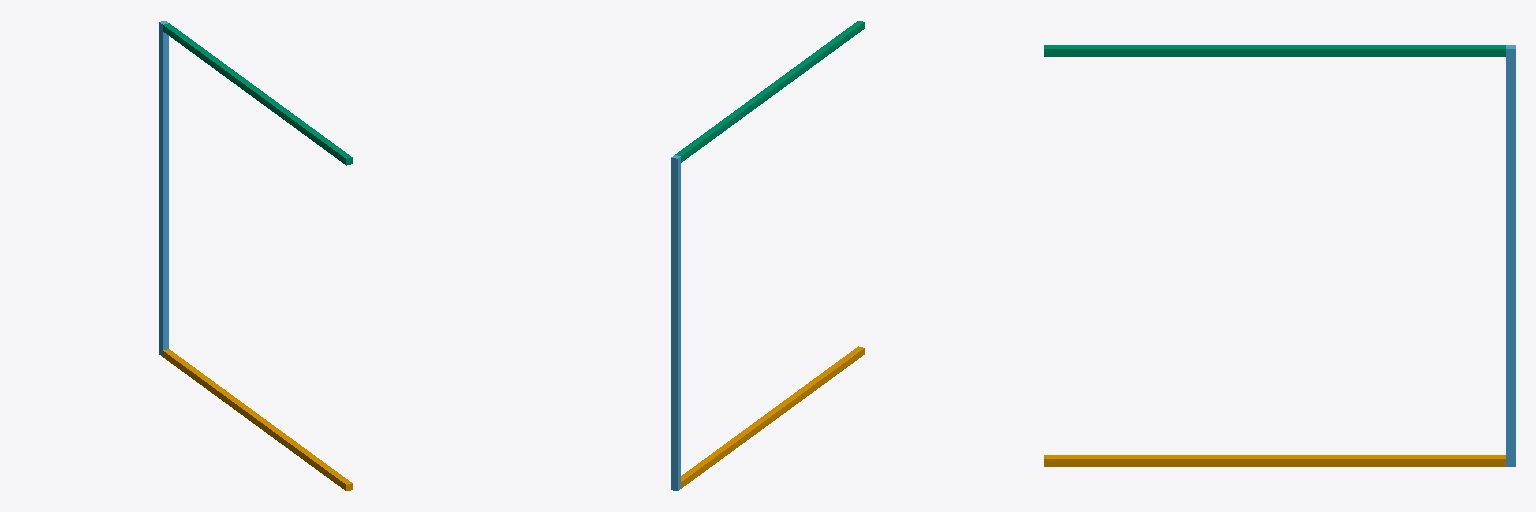
robot.urdf — mounting:
<robot name="mounting">
  
  <!-- <link name="camera_mount">
    <visual>
      <origin rpy="0 0 0" xyz="0.0 0.0 0"/>
      <geometry>
        <mesh filename="package://braccio_arduino_ros_rviz/stl/geometry.stl" scale="0.001 0.001 0.001"/>
      </geometry>
      <material name="silver_gray"/>
    </visual>
    <collision>
      <origin rpy="0.0 0.0 0.0" xyz="0.0 0.0 0"/>
      <geometry>
        <mesh filename="package://braccio_arduino_ros_rviz/stl/geometry.stl" scale="0.001 0.001 0.001"/>
      </geometry>
    </collision>
  </link>
  <joint name="camera" type="fixed">
    <parent link="world"/>
    <origin rpy="0 0 0" xyz="0 0 -1.57079632679"/>
    <child link="base_link"/>
  </joint> -->

  <link name="camera_mount_base">
    <inertial>
      <origin xyz="0.5 0.5 0.0" />
      <mass value="1.0" />
      <inertia  ixx="1.0" ixy="0.0"  ixz="0.0"  iyy="100.0"  iyz="0.0"  izz="1.0" />
    </inertial>
    <visual>
      <origin rpy="0 0 0" xyz="0.0 0.25 0.0"/>
      <geometry>
        <box size="0.01 0.5 0.01"/>
      </geometry>
    </visual>
    <collision>
      <origin rpy="0.0 0.0 0.0" xyz="0.0 0.25 0.0"/>
      <geometry>
        <box size="0.01 0.5 0.01" />
      </geometry>
    </collision>
  </link>
  <link name="camera_mount_pillar">
    <inertial>
      <origin rpy="0 0 1.57" xyz="0 0.5 0" />
      <mass value="1.0" />
      <inertia  ixx="1.0" ixy="0.0"  ixz="0.0"  iyy="100.0"  iyz="0.0"  izz="1.0" />
    </inertial>
    <visual>
      <origin rpy="0 0 1.57" xyz="0.0 0.5 0"/>
      <geometry>
        <box size="0.01 0.01 0.5"/>
      </geometry>
    </visual>
    <collision>
      <origin rpy="0 0 1.57" xyz="0.0 0.5 0"/>
      <geometry>
        <box size="0.01 0.01 0.5" />
      </geometry>
    </collision>
  </link>
  <link name="camera_top_link">
    <visual>
      <origin rpy="0 0 0" xyz="0.0 0.25 0.25"/>
      <geometry>
        <box size="0.01 0.5 0.01"/>
      </geometry>
    </visual>
    <collision>
      <origin rpy="0 0 0" xyz="0.0 0.25 0.25"/>
      <geometry>
        <box size="0.01 0.5 0.1" />
      </geometry>
    </collision>
  </link>
  
  
<link name="world"/>
<joint name="world_joint" type="fixed">
  <parent link="world"/>
  <child link="camera_mount_base"/>
  <origin rpy="0.0 0.0 0.0" xyz="0.0 0.0 0.005"/>
</joint>

  <joint name="mount_pillar_joint" type="fixed">
    <parent link="camera_mount_base"/>
    <origin rpy="0 0 0" xyz="0.0 0.005 0.245"/>
    <child link="camera_mount_pillar"/>
  </joint>
  <joint name="pillar_top_joint" type="fixed">
    <parent link="camera_mount_pillar"/>
    <origin rpy="0 0 0" xyz="0.0 -0.005 -0.005"/>
    <child link="camera_top_link"/>
  </joint>


</robot>

--- What the picture shows (computed from the rendered views, not written in the file) ---
The picture shows the robot from 3 angles, left to right: view 1: azimuth 30°, elevation 25°; view 2: azimuth 150°, elevation 25°; view 3: azimuth 270°, elevation 25°; orthographic projection.
Model mounting with 4 links and 3 joints (3 fixed), rooted at world, posed every joint at zero.
Links seen in each view (by area): view 1: camera_mount_pillar, camera_mount_base, camera_top_link; view 2: camera_mount_pillar, camera_top_link, camera_mount_base; view 3: camera_mount_base, camera_top_link, camera_mount_pillar.
Link boxes in pixels (x1=…): camera_mount_pillar: x1=159, y1=21, x2=168, y2=356; camera_mount_base: x1=163, y1=349, x2=352, y2=490; camera_top_link: x1=163, y1=23, x2=352, y2=165; camera_mount_pillar: x1=671, y1=155, x2=680, y2=490; camera_top_link: x1=675, y1=21, x2=864, y2=162; camera_mount_base: x1=681, y1=346, x2=864, y2=488; camera_mount_base: x1=1044, y1=455, x2=1505, y2=466; camera_top_link: x1=1044, y1=45, x2=1505, y2=56; camera_mount_pillar: x1=1506, y1=45, x2=1515, y2=466.
Bounding box of the posed robot: 0.01 × 0.51 × 0.5 m (x, y, z).
Geometry: primitives only (box / cylinder / sphere), no mesh files.